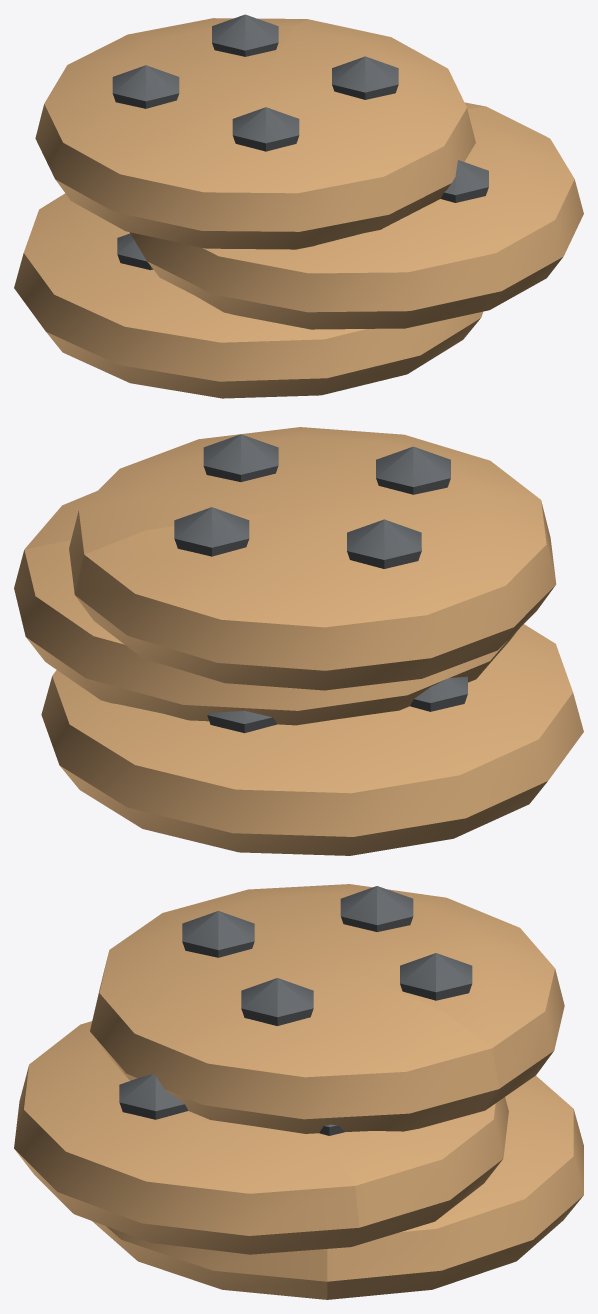
Rendered from bakery-and-cafe-cookie-stack-64947b89__22242.glb.
3 views of the same model, one above another, from view 1: azimuth 30°, elevation 25°; view 2: azimuth 150°, elevation 25°; view 3: azimuth 270°, elevation 25° (orthographic). The views are drawn at different scales.
Parts seen in each view (by area): view 1: cookie-stack; view 2: cookie-stack; view 3: cookie-stack.
Boxes of the visible parts, x1,y1,x2,y2 form: cookie-stack: [14, 14, 583, 398]; cookie-stack: [14, 427, 583, 855]; cookie-stack: [14, 884, 583, 1299].
Bounding box in the file's own units: 0.1 × 0.049 × 0.0953.
